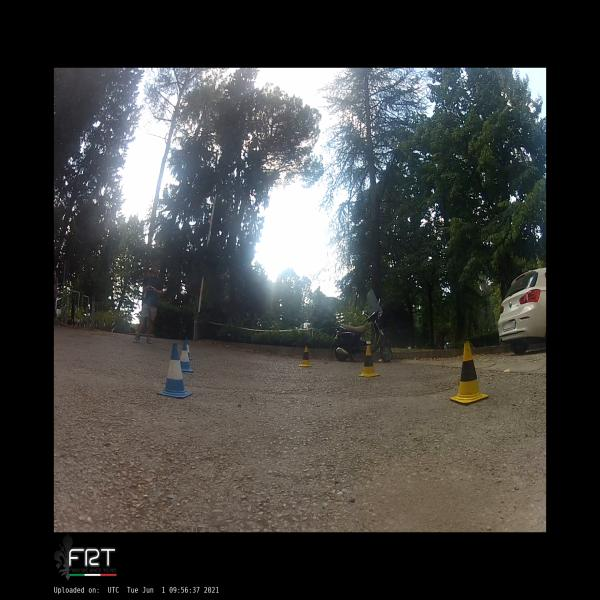blue_cone: (156, 343, 192, 398), (180, 340, 194, 372), (186, 338, 192, 361)
yellow_cone: (449, 342, 489, 404), (357, 345, 380, 377), (298, 345, 313, 367)
